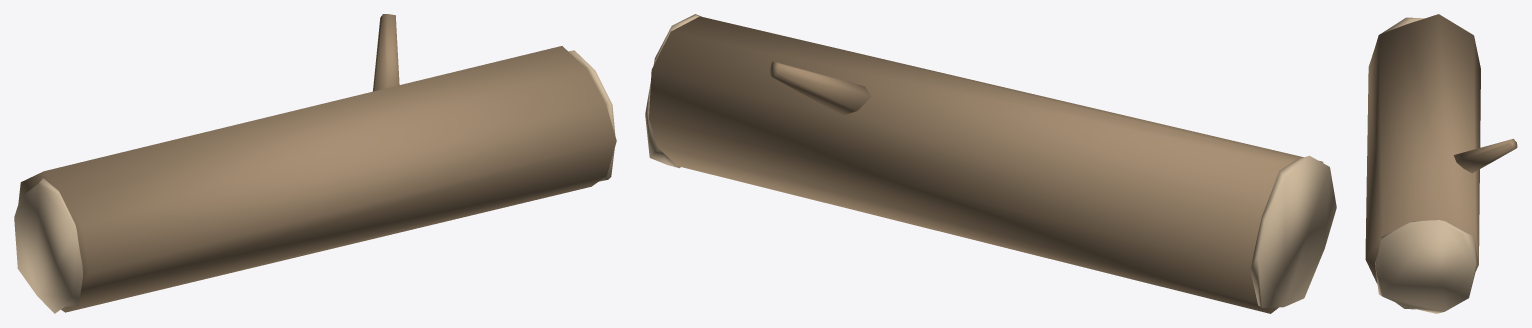
Rendered from camp_log.glb.
3 renders of one model, left to right at view 1: azimuth 30°, elevation 25°; view 2: azimuth 150°, elevation 25°; view 3: azimuth 270°, elevation 25°, orthographic. The views are drawn at different scales.
Parts seen in each view (by area): view 1: log, end, stub, end.001; view 2: log, end, stub, end.001; view 3: log, end.001, stub, end.
Part boxes in pixels (bbox=[...]): log: bbox=[18, 46, 616, 312]; end: bbox=[14, 178, 82, 313]; stub: bbox=[373, 14, 399, 91]; end.001: bbox=[568, 50, 615, 181]; log: bbox=[649, 16, 1323, 313]; end: bbox=[1250, 155, 1336, 308]; stub: bbox=[768, 61, 871, 115]; end.001: bbox=[645, 14, 701, 168]; log: bbox=[1365, 14, 1480, 309]; end.001: bbox=[1375, 220, 1477, 313]; stub: bbox=[1453, 138, 1517, 173]; end: bbox=[1376, 17, 1424, 43].
Size of the model in its own units: 1.74 by 0.4974 by 0.5541.
